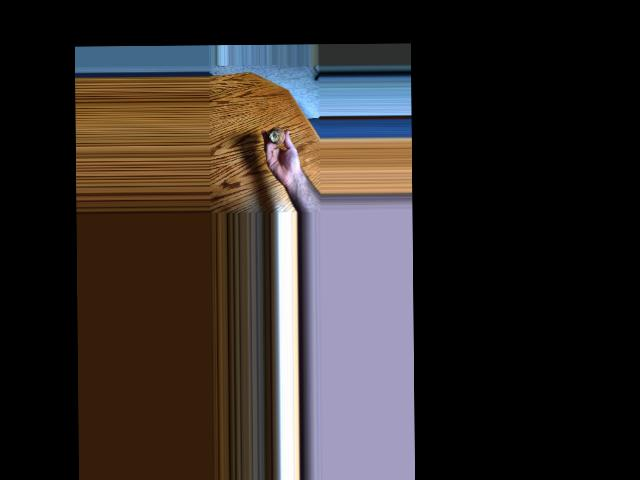sweet_potato: (268, 126, 287, 142)
